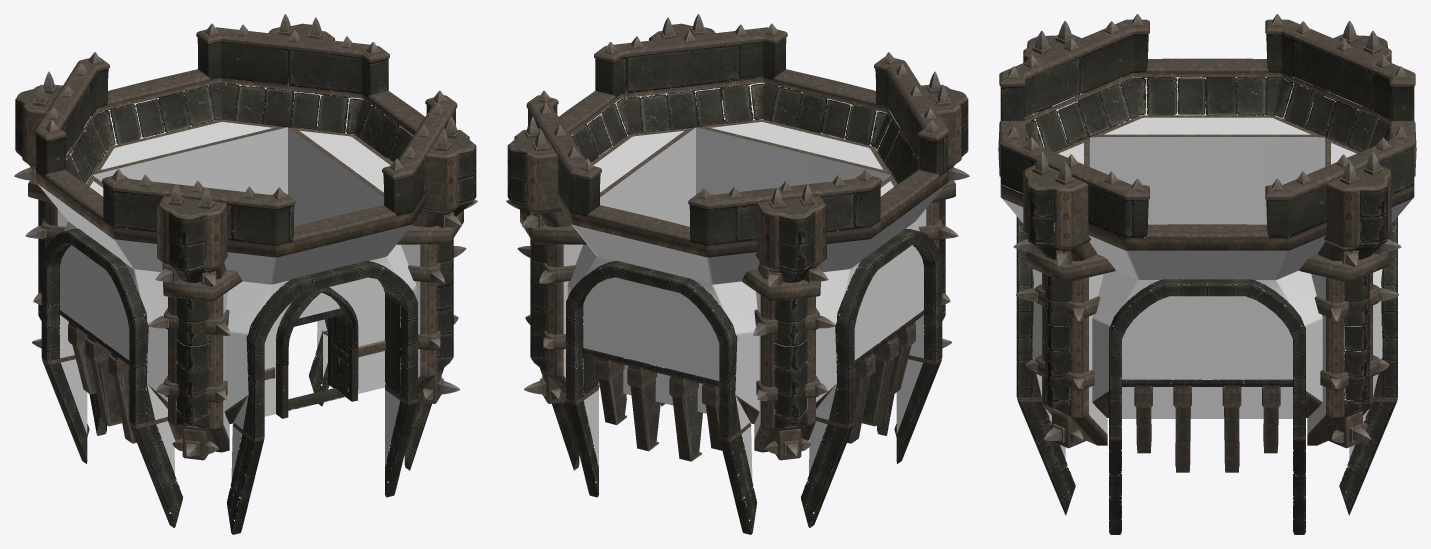
3 renders of one model, left to right at view 1: azimuth 30°, elevation 25°; view 2: azimuth 150°, elevation 25°; view 3: azimuth 270°, elevation 25°, orthographic. The views are drawn at different scales.
Parts seen in each view (by area): view 1: SM_Dowdun_Tower_Turret_02_LOD0; view 2: SM_Dowdun_Tower_Turret_02_LOD0; view 3: SM_Dowdun_Tower_Turret_02_LOD0.
Boxes of the visible parts, bbox=[...] form: SM_Dowdun_Tower_Turret_02_LOD0: bbox=[14, 14, 477, 534]; SM_Dowdun_Tower_Turret_02_LOD0: bbox=[506, 14, 969, 534]; SM_Dowdun_Tower_Turret_02_LOD0: bbox=[998, 14, 1416, 534].
Bounding box in the file's own units: 17.78 × 17.89 × 17.69.
5 materials, 4 textured.
